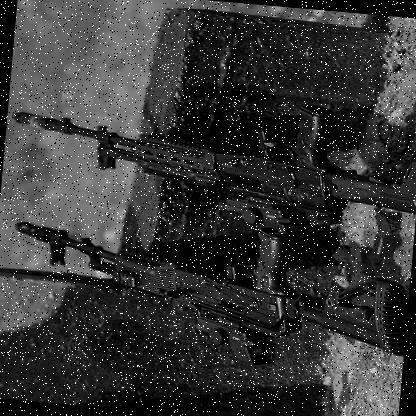rifle: (10, 70, 416, 225), (2, 213, 409, 366)
